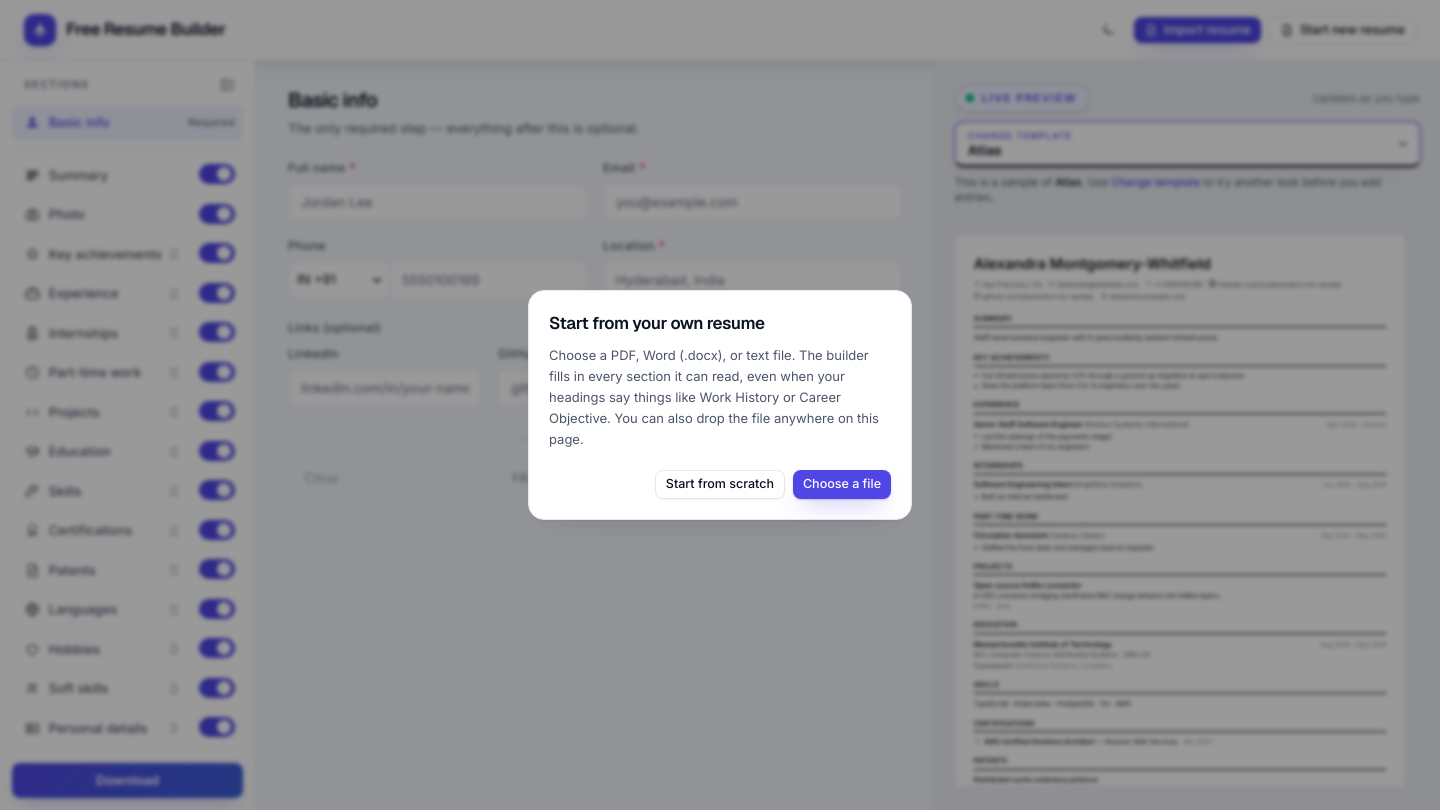
BuilderShell first-run tour › asks for a resume file instead of touring when arriving from Import my resume
Expected: the dialog "Start from your own resume" shows "PDF, Word", [549, 347, 879, 447]
Click the button "Choose a file": click(842, 485) [793, 470, 891, 499]
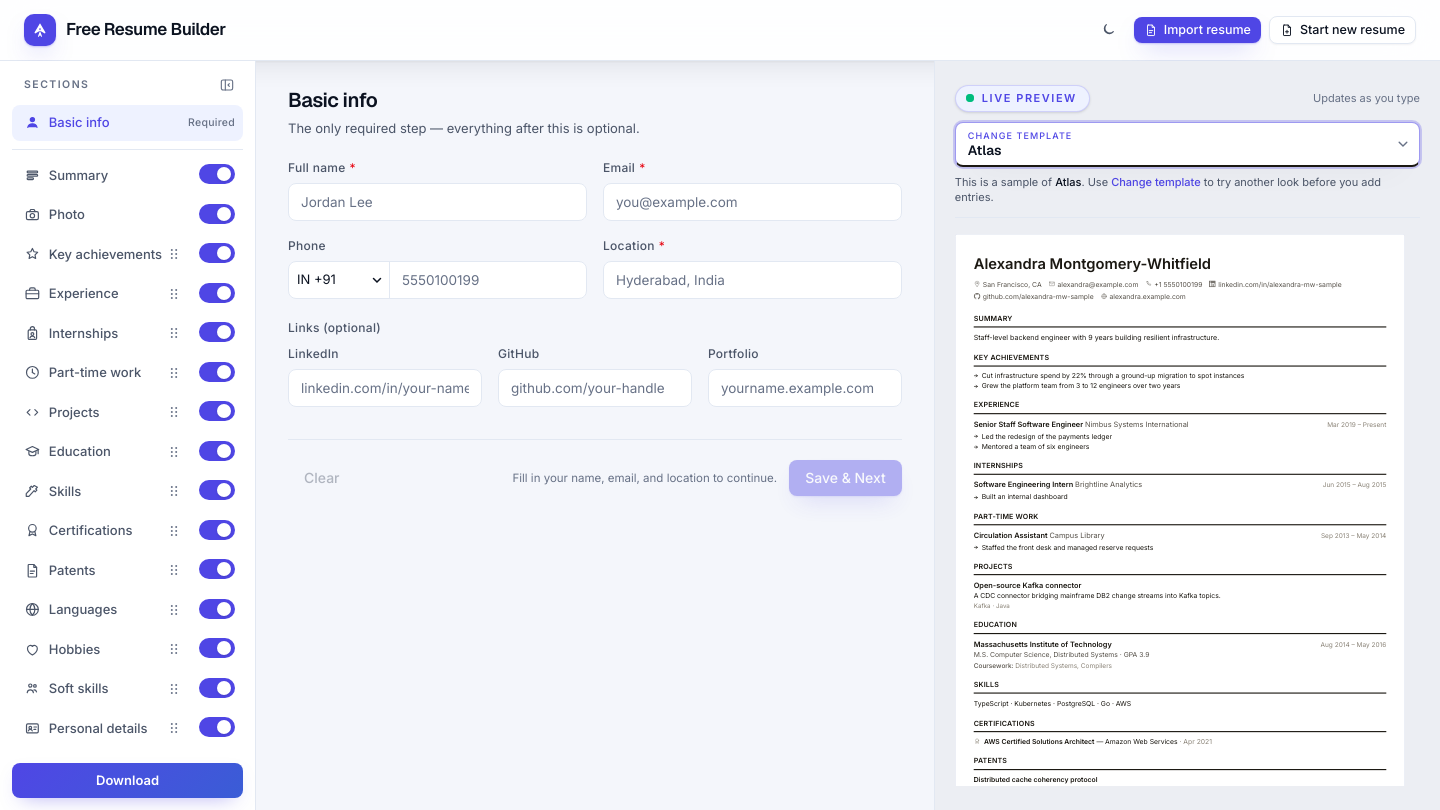
Expected: the heading "Start from your own resume" is gone
